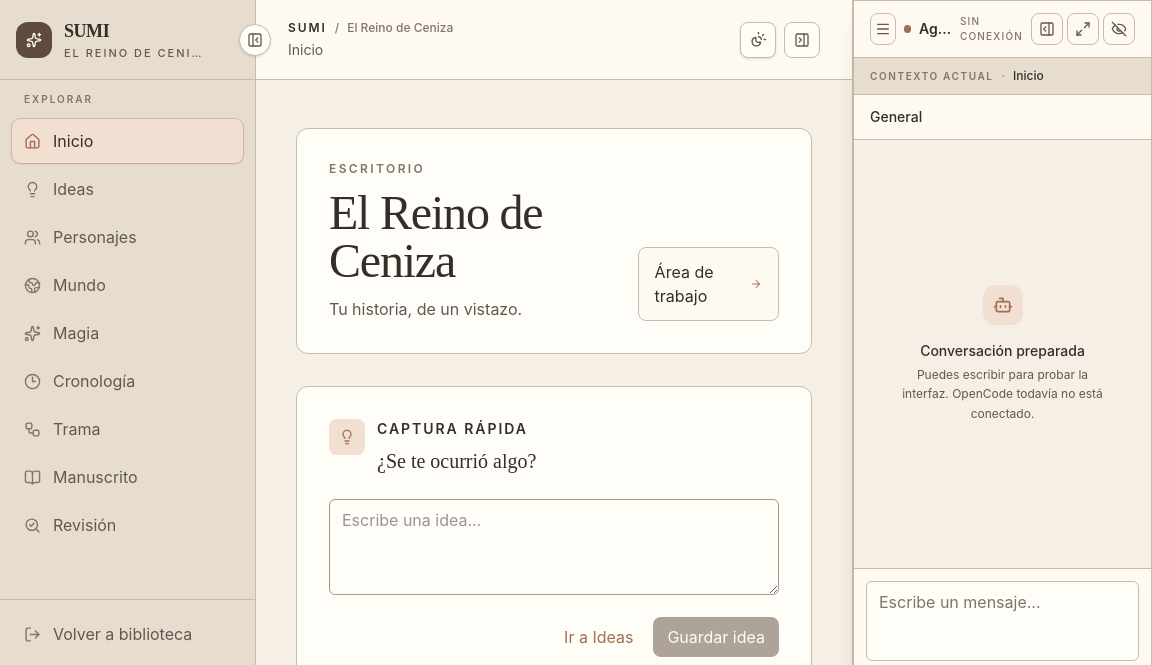
Test case: SUMI shell › can hide the assistant panel
The width and height of the screenshot is (1152, 665).
Click the 2nd button named "Ocultar asistente" at (802, 40), box 784,22 -> 820,58
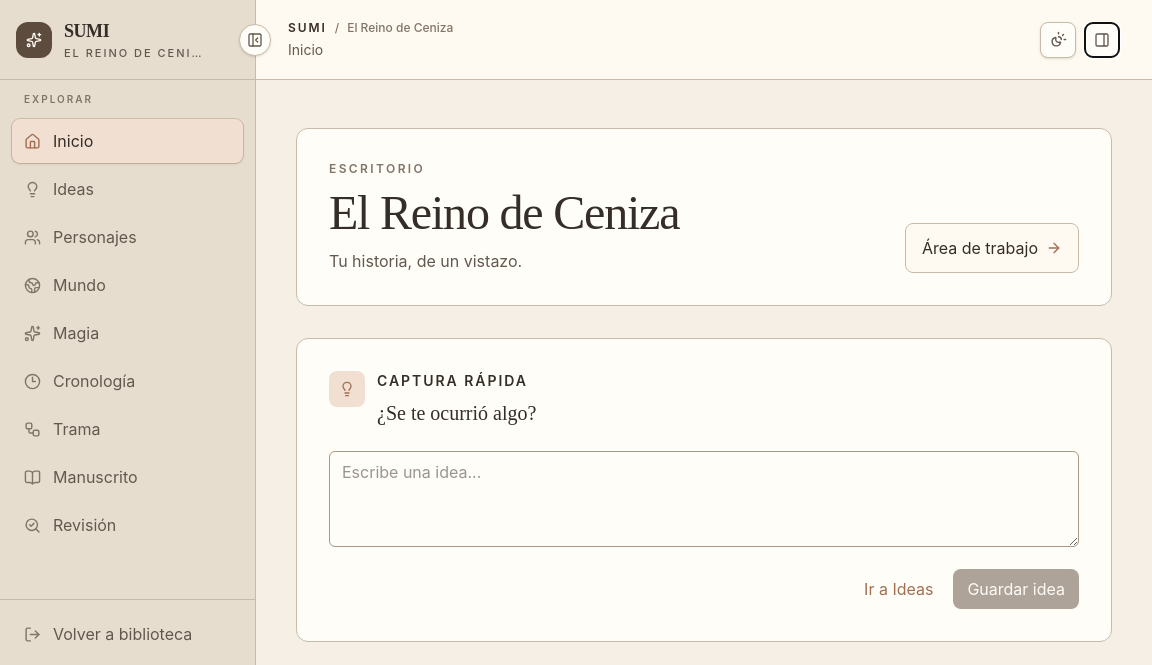
Check: the text "Agent" is gone
Check: the button named "Mostrar asistente" is shown, box 1084,22 -> 1120,58
